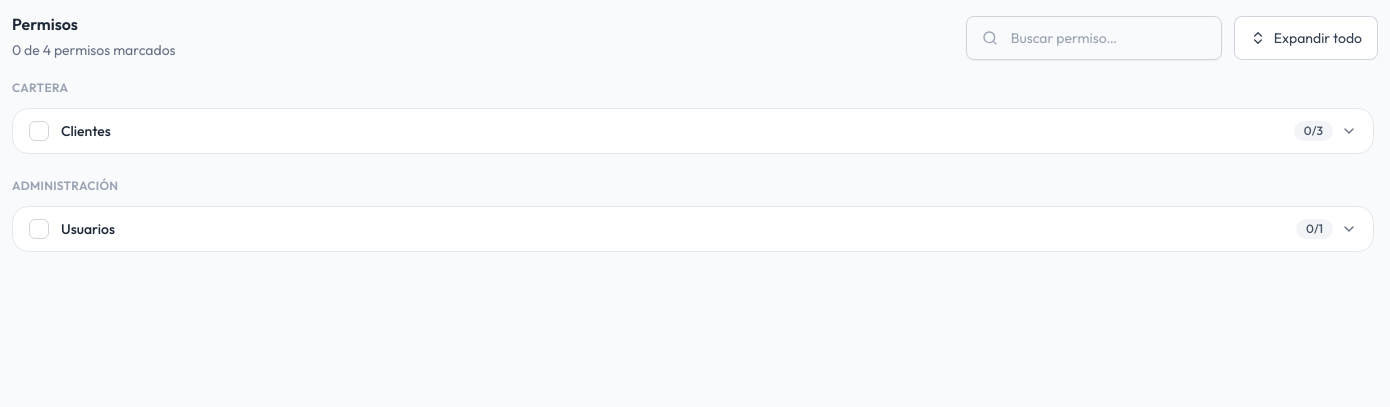
Scenario: PermissionMatrix › muestra grupos del menú, módulos y acciones con nombres legibles, no claves crudas
The image size is (1390, 407).
Click the button "Expandir todo" at coordinates (1306, 38), box [1234,16,1378,60]
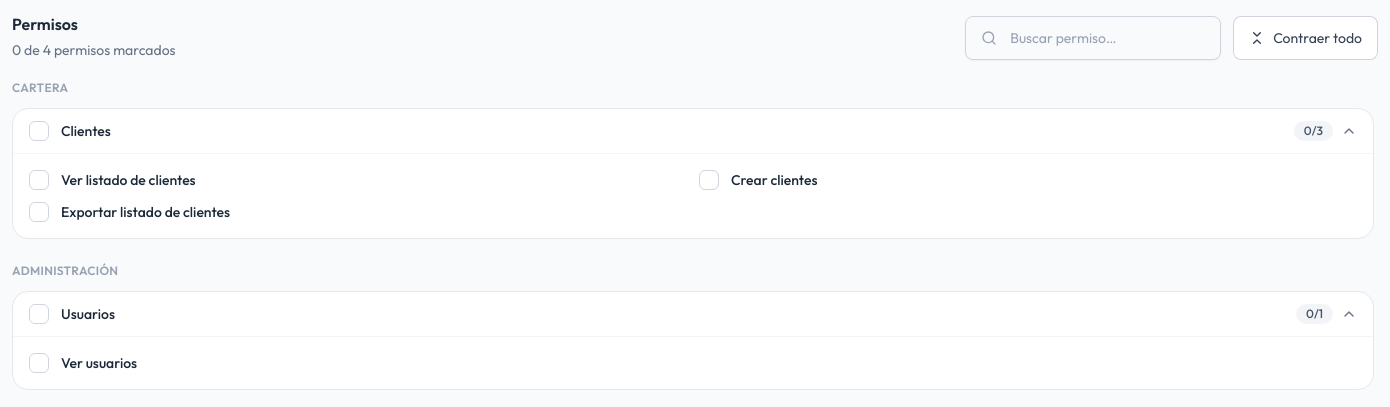
Expected: the heading "Cartera" is shown, [12,80,68,95]
Now the text "Exportar listado de clientes" is shown, box [61,202,230,222]
